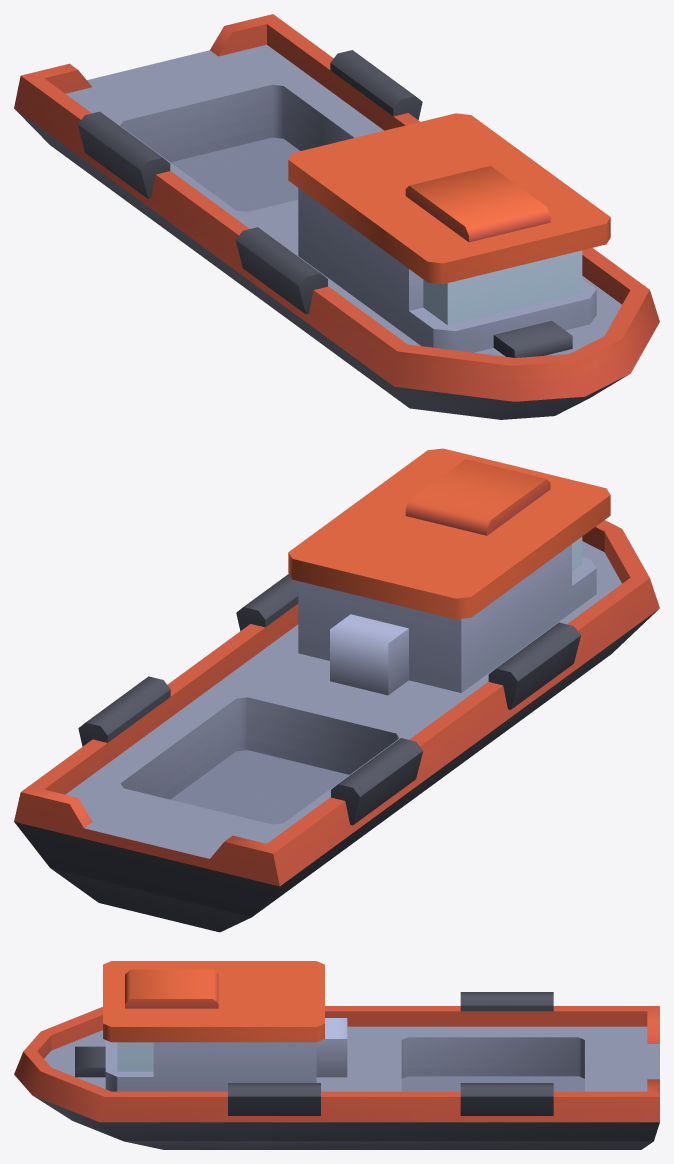
Rendered from ship-cargo-c-transformed-transformed.glb.
3 views of the same model, one above another, from view 1: azimuth 30°, elevation 25°; view 2: azimuth 150°, elevation 25°; view 3: azimuth 270°, elevation 25° (orthographic). The views are drawn at different scales.
Parts seen in each view (by area): view 1: ship-cargo-c; view 2: ship-cargo-c; view 3: ship-cargo-c.
Part boxes in pixels (x1,y1,x2,y2): ship-cargo-c: (14,14,659,419); ship-cargo-c: (14,448,659,932); ship-cargo-c: (14,961,659,1149).
Bounding box in the file's own units: 3.92 × 2.59 × 10.55.
1 material, 1 textured.
